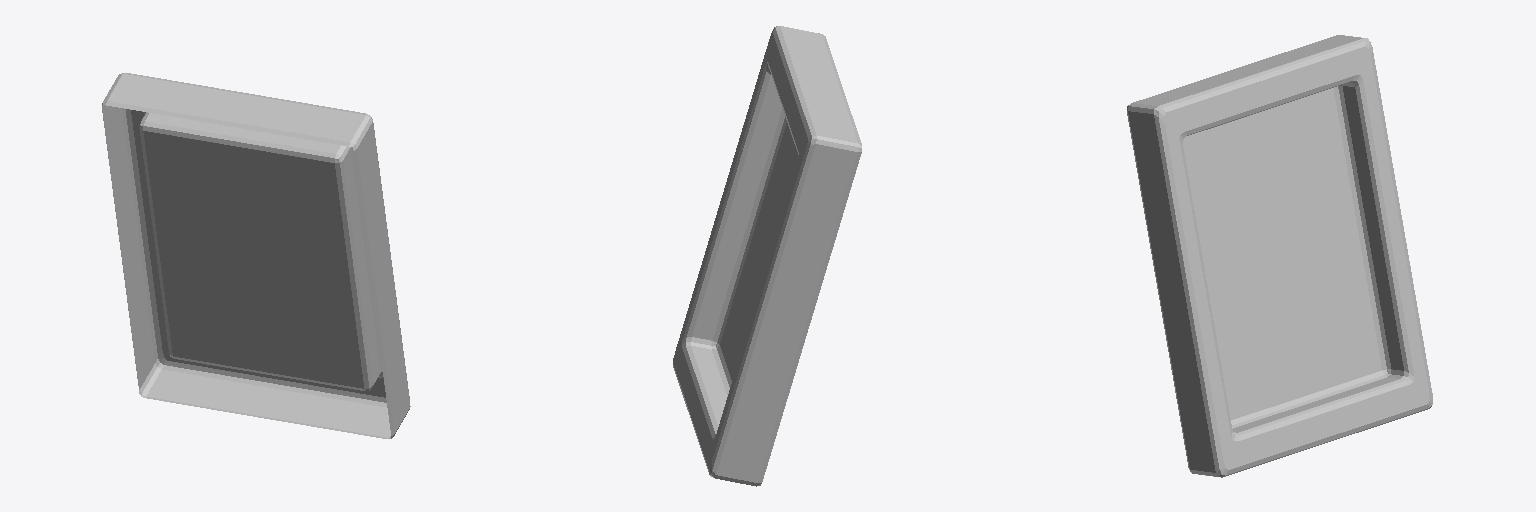
The model's file is figura bawah.obj.
The picture shows the model from 3 angles: view 1: azimuth 30°, elevation 25°; view 2: azimuth 150°, elevation 25°; view 3: azimuth 270°, elevation 25°; orthographic projection.
Parts seen in each view (by area): view 1: frame_foto1 set_meja_1; view 2: frame_foto1 set_meja_1; view 3: frame_foto1 set_meja_1.
Part boxes in pixels (bbox=[...]): frame_foto1 set_meja_1: bbox=[102, 73, 410, 438]; frame_foto1 set_meja_1: bbox=[673, 26, 861, 486]; frame_foto1 set_meja_1: bbox=[1127, 35, 1432, 477].
Size of the model in its own units: 0.518 by 0.6933 by 0.5551.